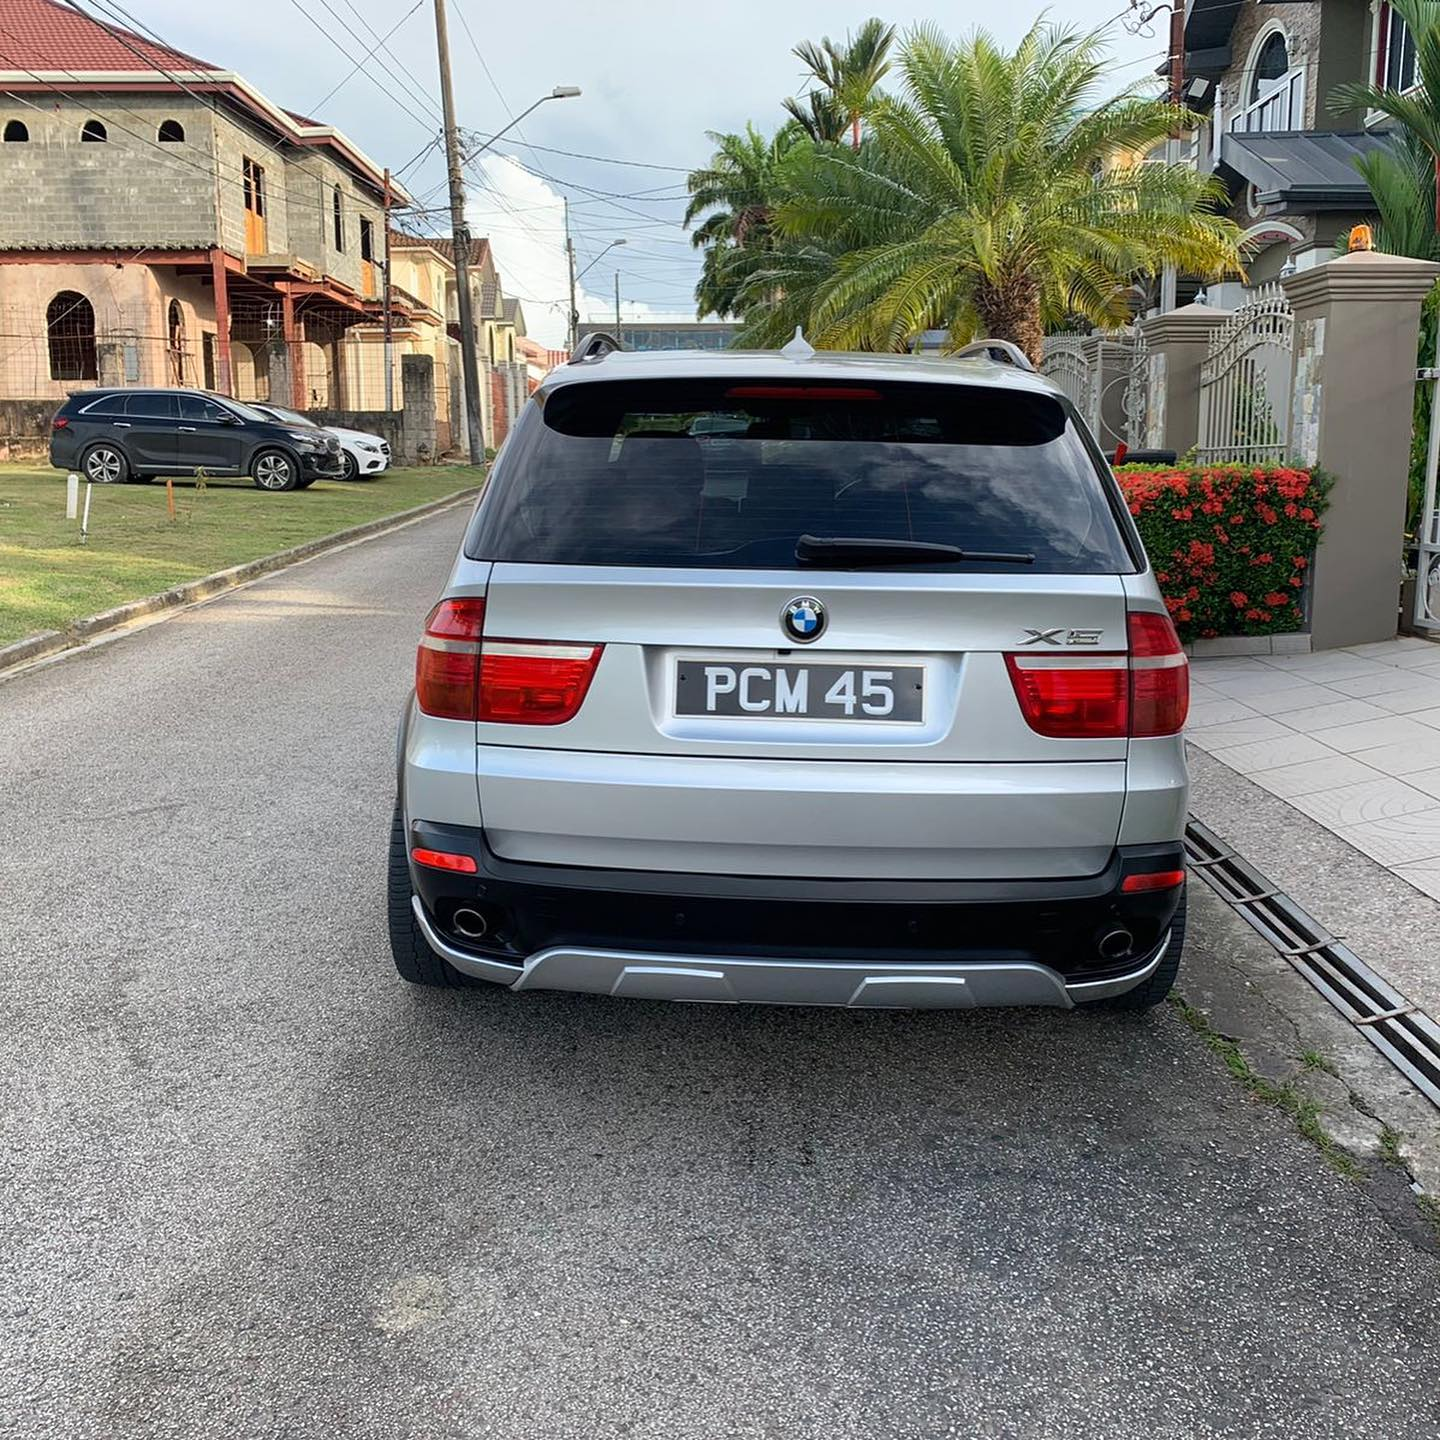License-Plate: (677, 659, 922, 714)
